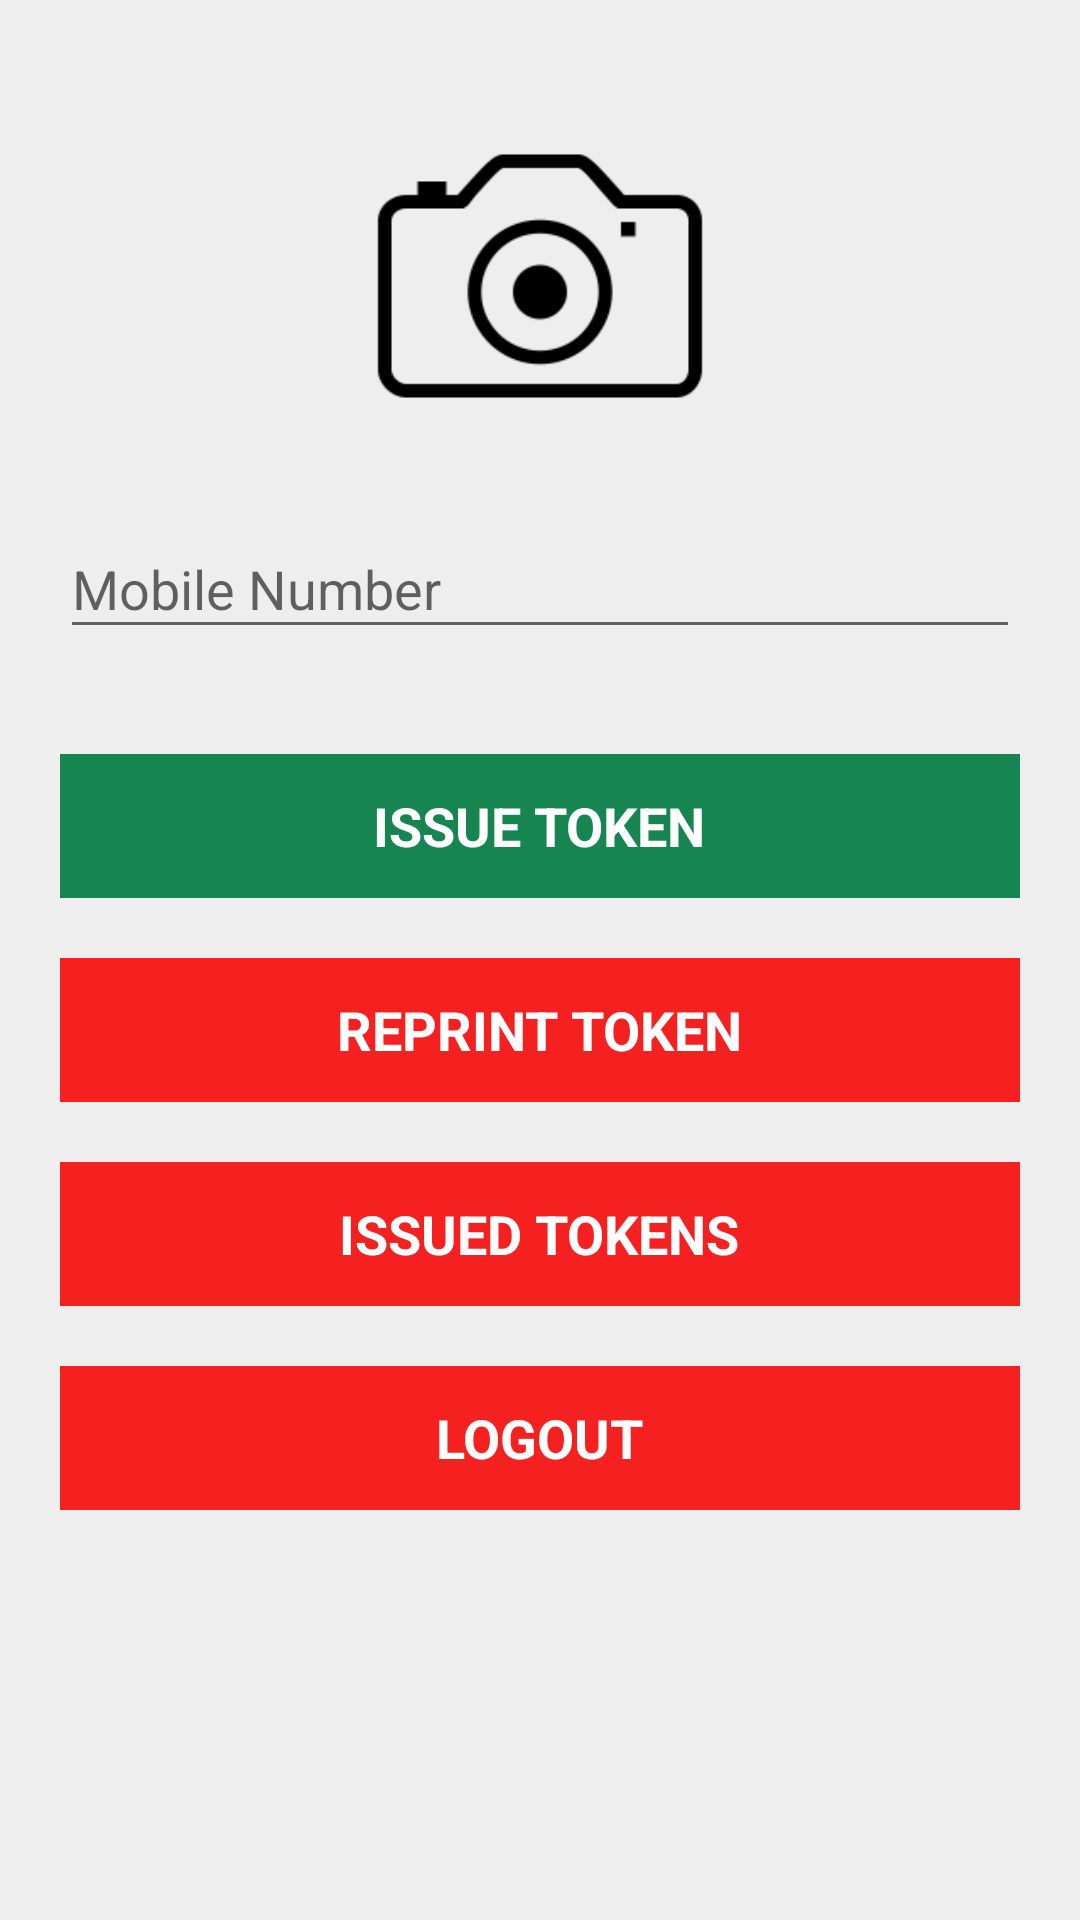

Screen size 1080px×1920px. Icon name, then its box in pixels as (x1, y1, x2, y2):
finder camera: (377, 154, 703, 398)
